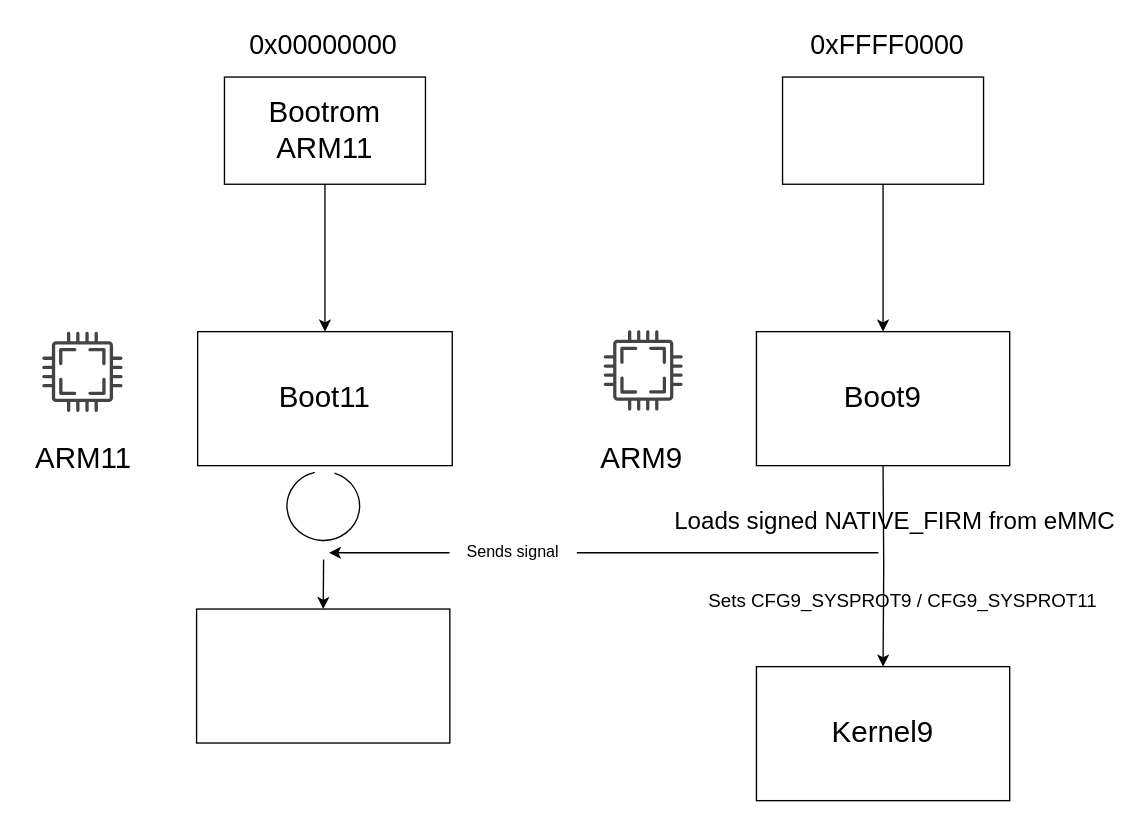
The diagram is 1138 pixels wide and 824 high, and some of its shapes have lost their labels. Here are the shapes that lost their labels. From the top down, the centre of each, then its label:
At (x=882, y=130): "Bootrom ARM9".
At (x=322, y=675): "Kernel11".
